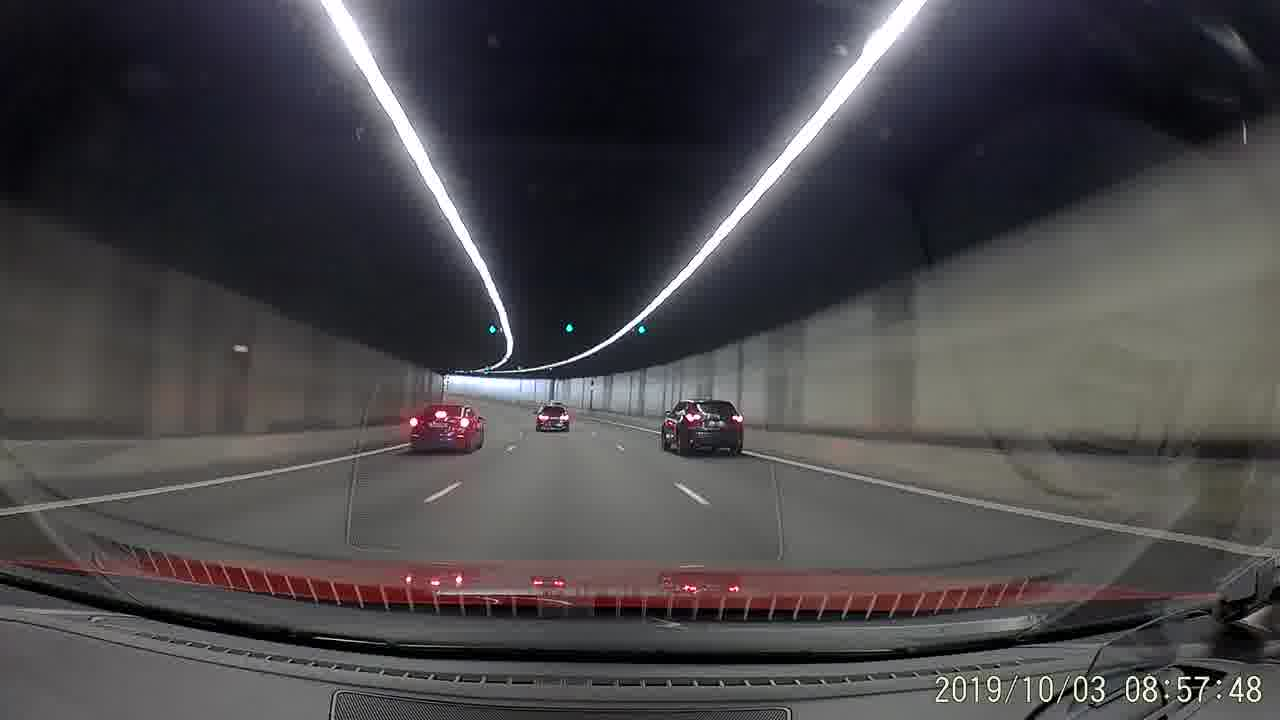car: (658, 396, 746, 463), (408, 403, 485, 456), (532, 401, 570, 435)
